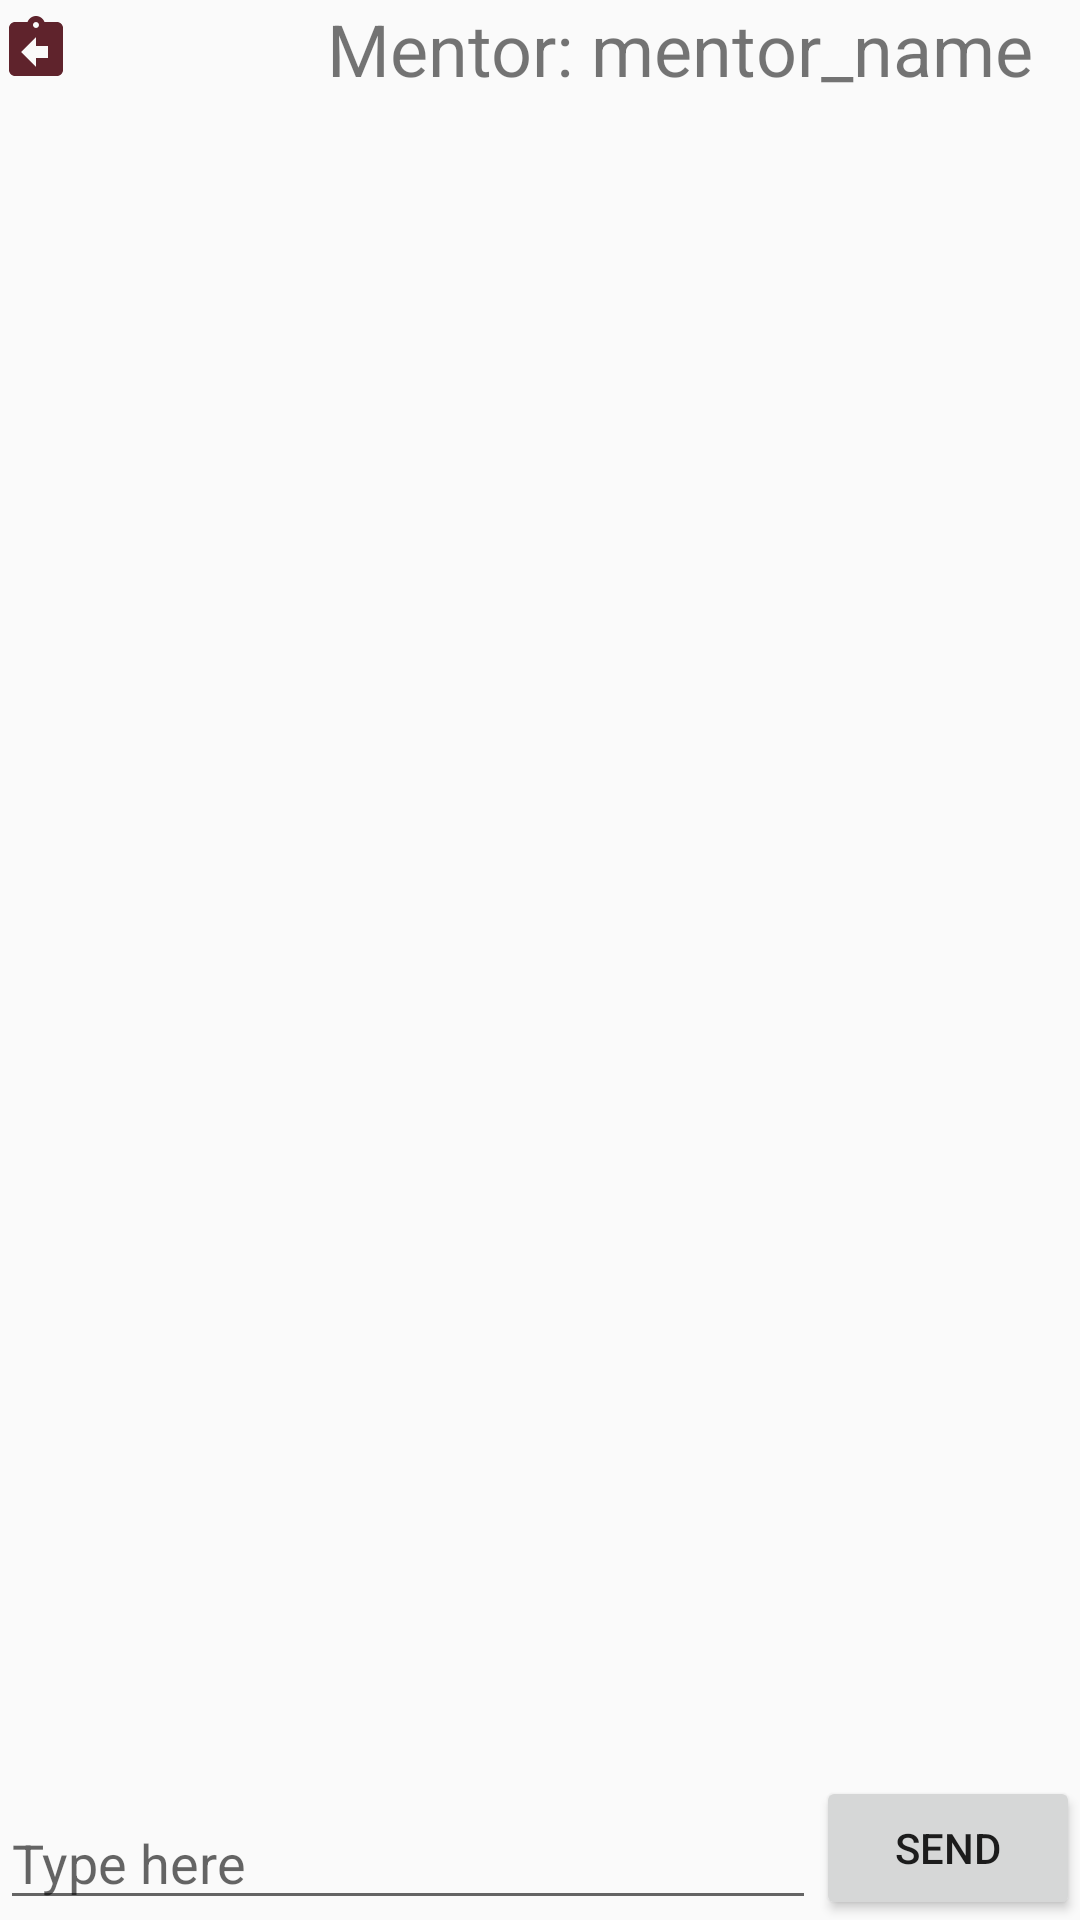

Icons on this 1080 x 1920 Android screen, each with the point to tap as (x=x, y=y):
assignment return: (x=36, y=46)
